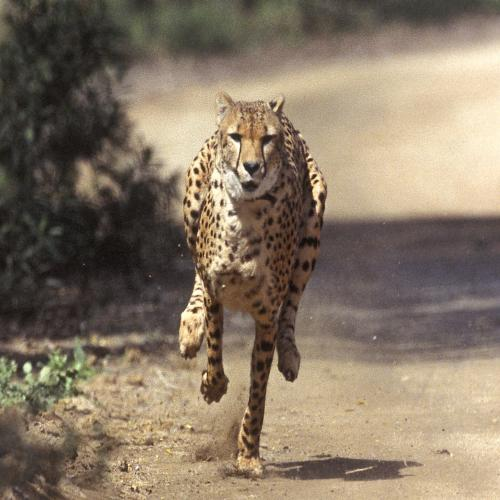cheetah-endangered: (178, 90, 331, 480)
